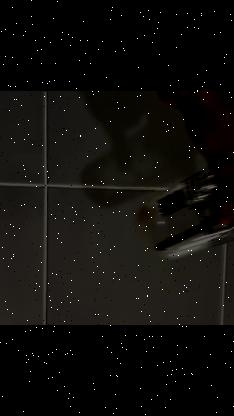Others: (133, 134, 234, 262)
